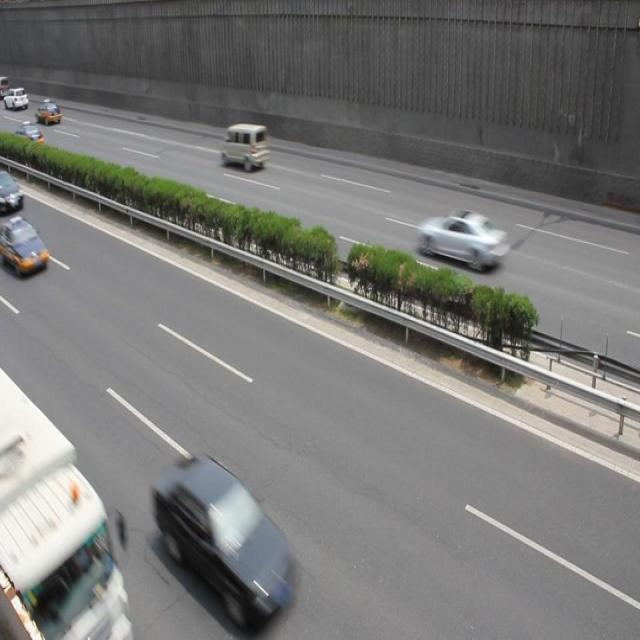car: (152, 454, 301, 616), (418, 208, 508, 273), (1, 214, 49, 278), (12, 122, 45, 154), (35, 98, 62, 126)
truck: (220, 122, 268, 172)
